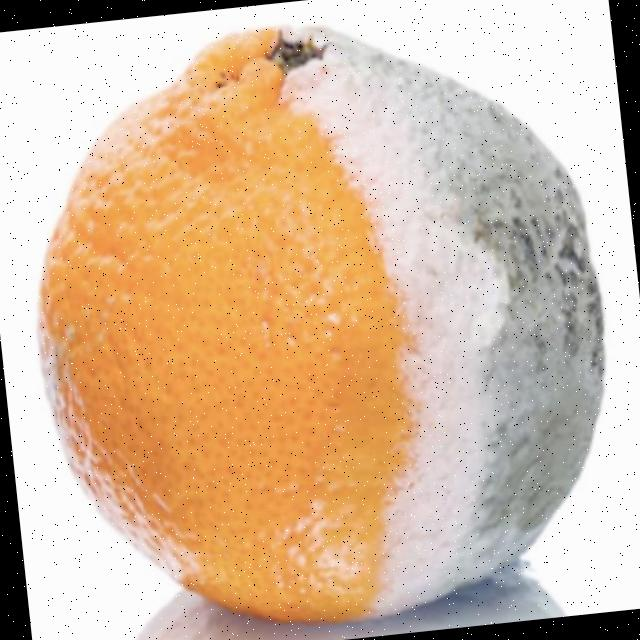rotten orange: (5, 0, 634, 640)
